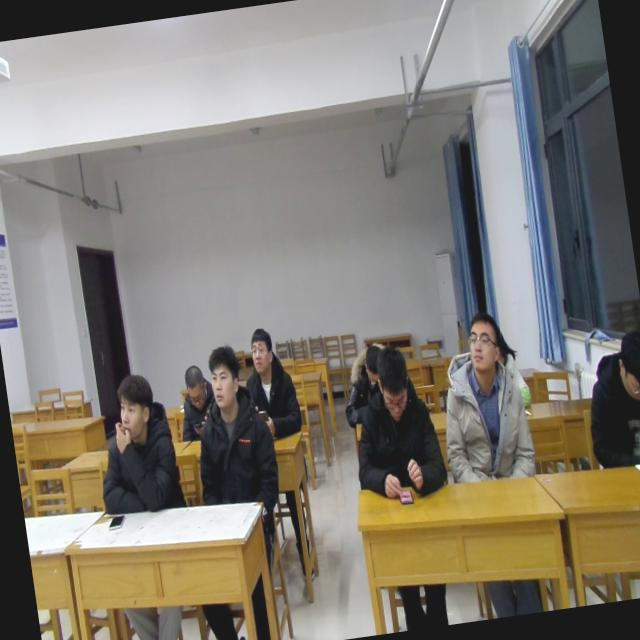bow: (336, 340, 396, 430)
down: (372, 343, 417, 430), (608, 324, 640, 410), (178, 358, 210, 413), (356, 340, 382, 384)
lookup: (202, 340, 247, 416), (111, 370, 161, 436), (463, 306, 508, 376), (244, 319, 278, 376)
sit: (428, 304, 538, 488), (338, 338, 450, 502), (181, 340, 284, 510), (84, 365, 190, 521), (575, 325, 640, 474), (235, 323, 305, 445), (172, 358, 221, 442)
